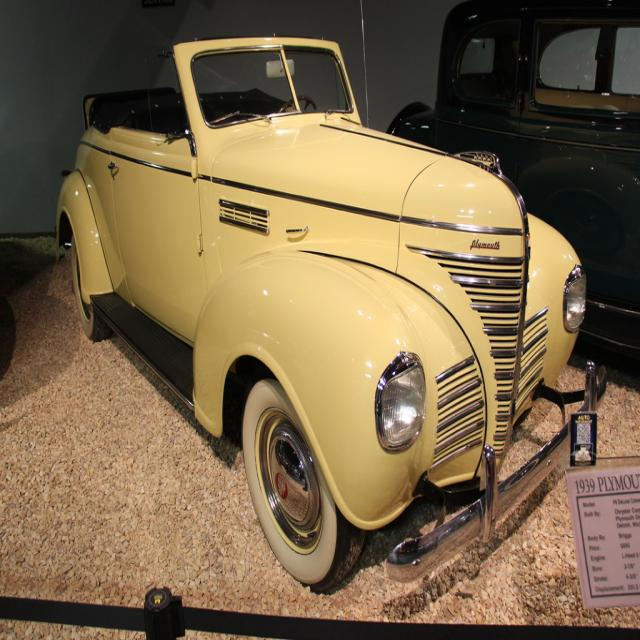car: (49, 29, 611, 604)
